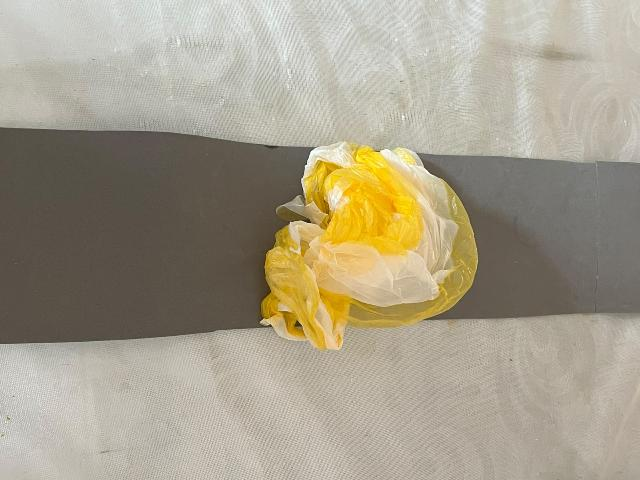LDPE: (244, 116, 493, 364)
